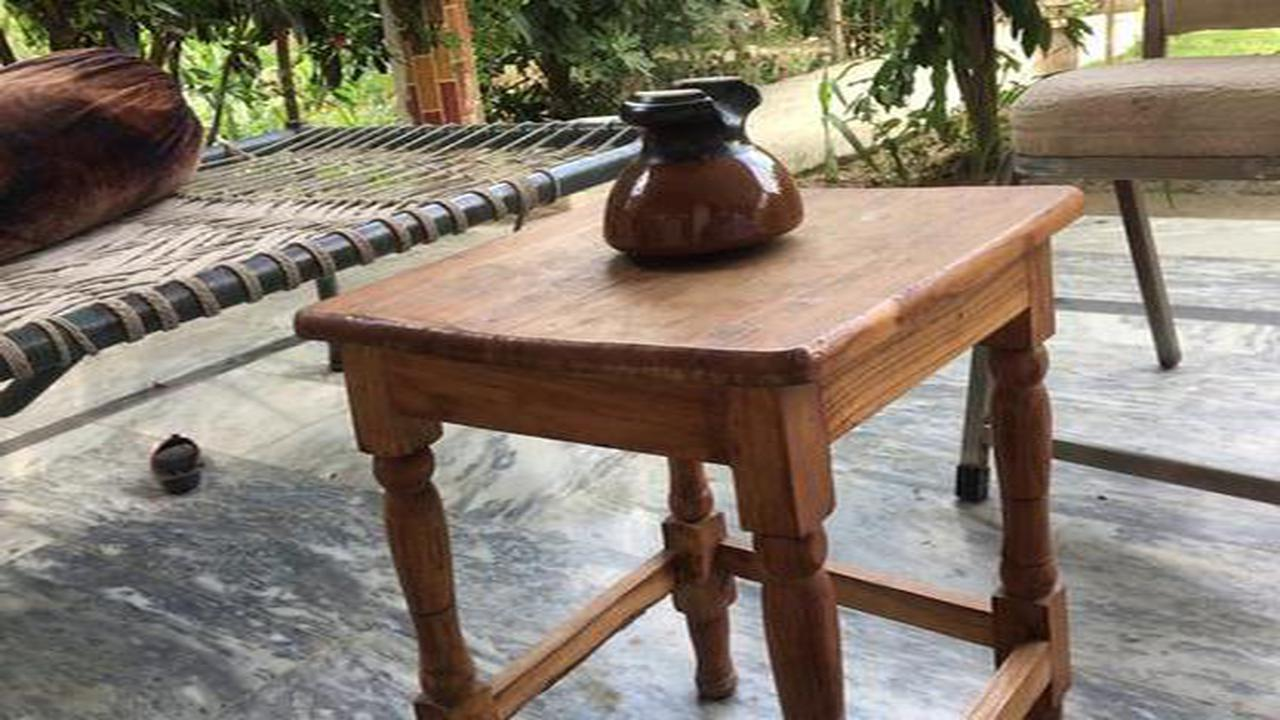insulator_pin: (585, 71, 819, 271)
